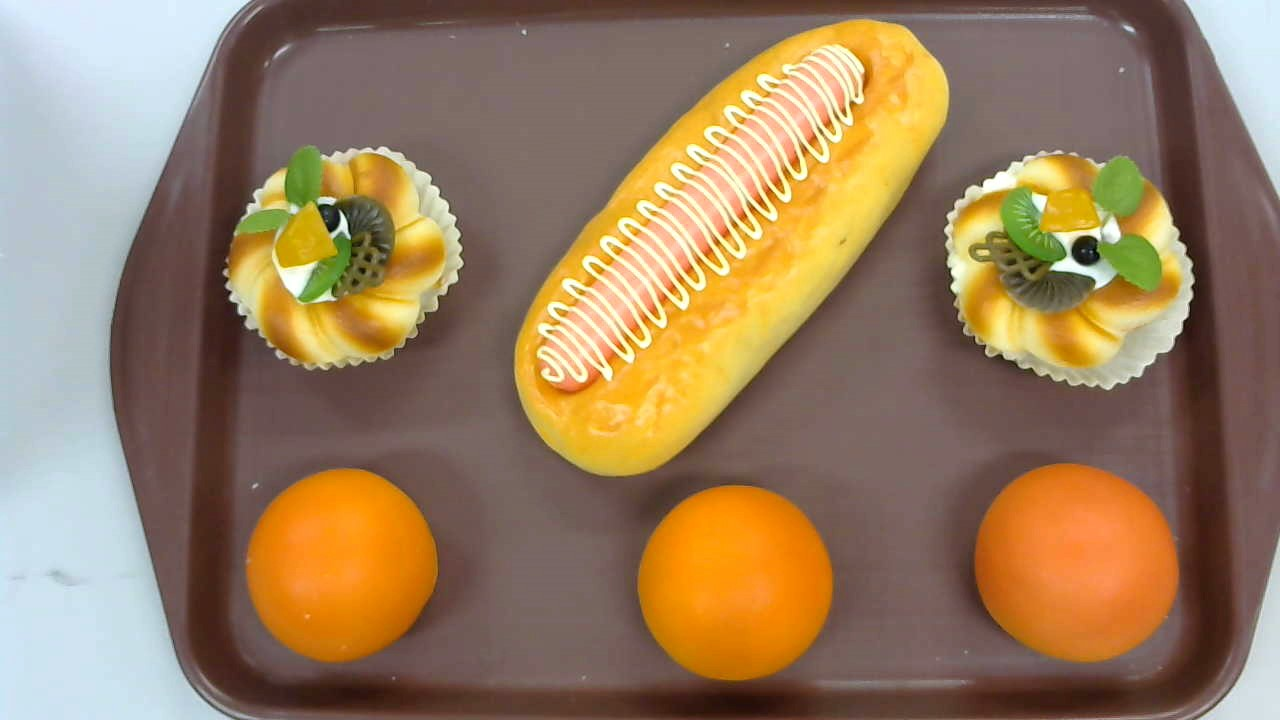bun: (972, 464, 1179, 663), (636, 485, 833, 681), (246, 469, 439, 661)
fruit tart: (942, 150, 1195, 391), (222, 144, 464, 372)
hot dog: (514, 19, 949, 477)
